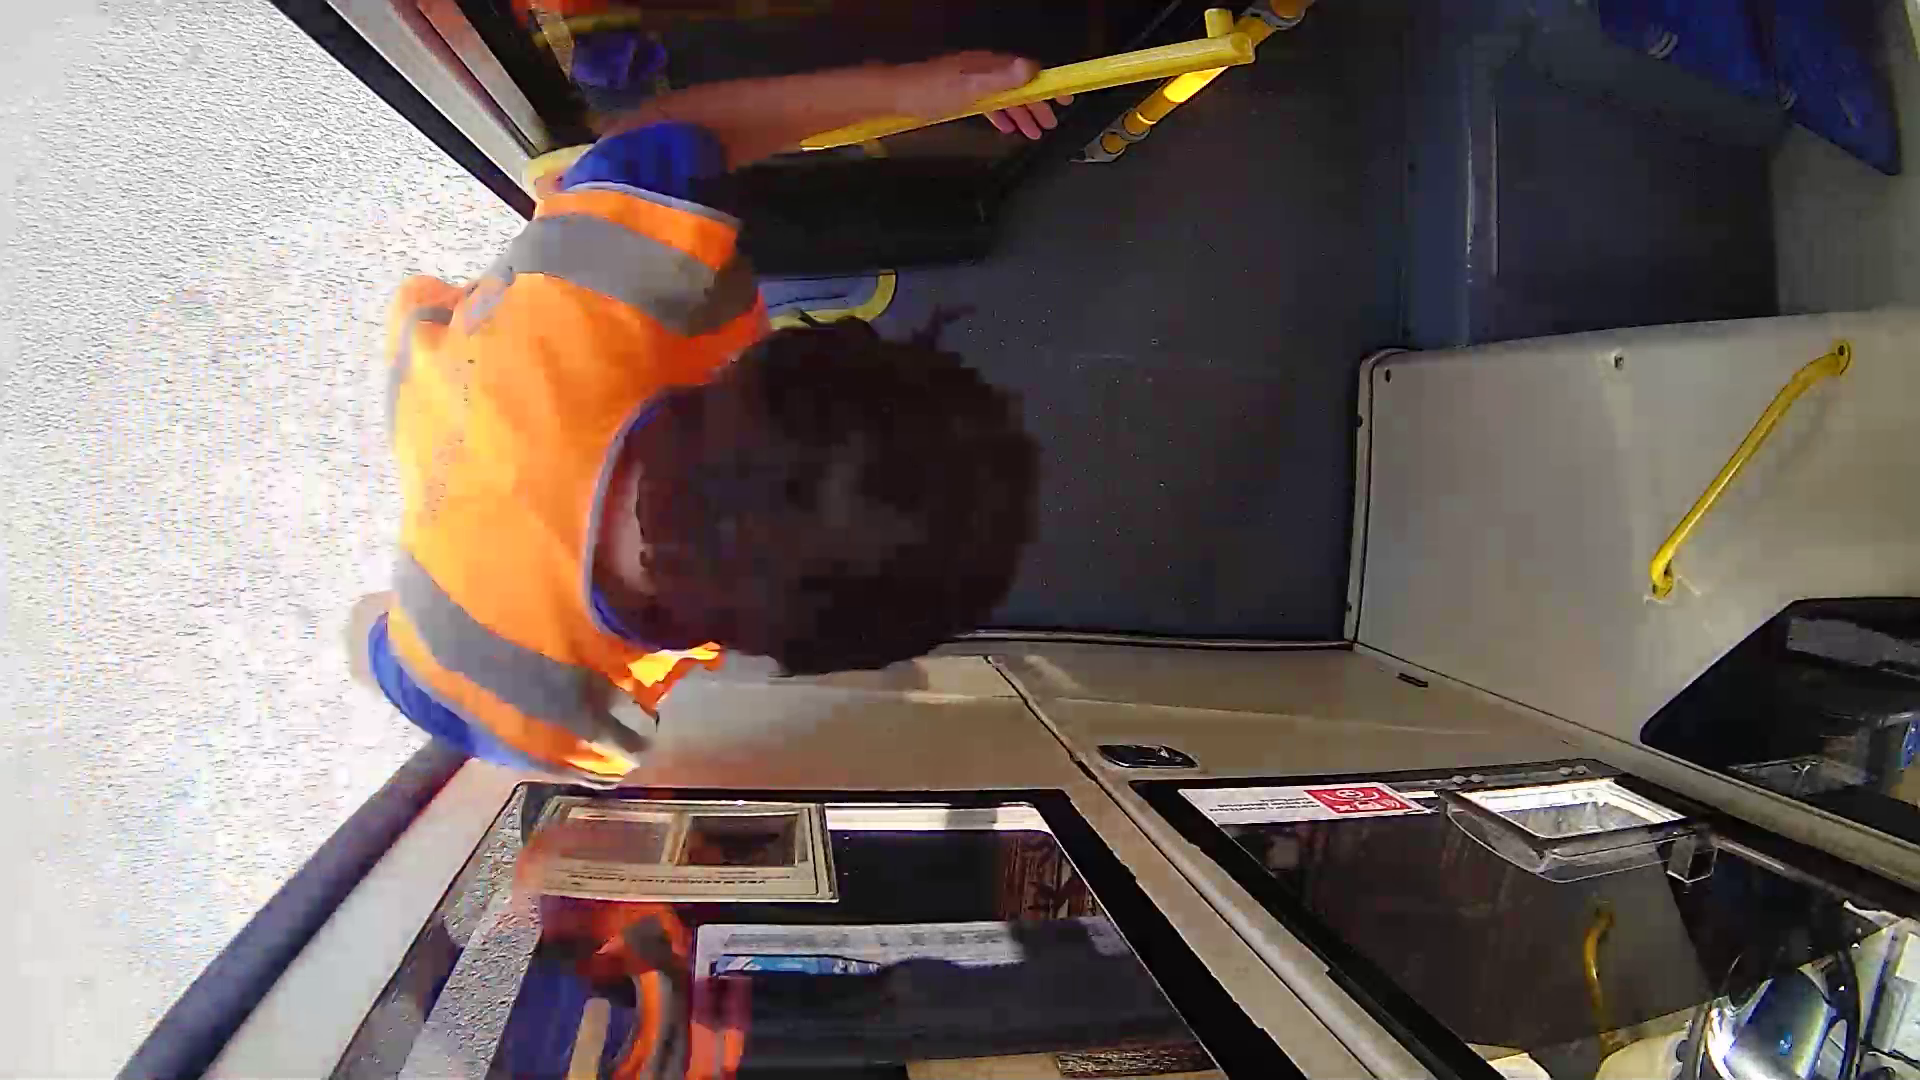person: (296, 147, 1130, 826)
